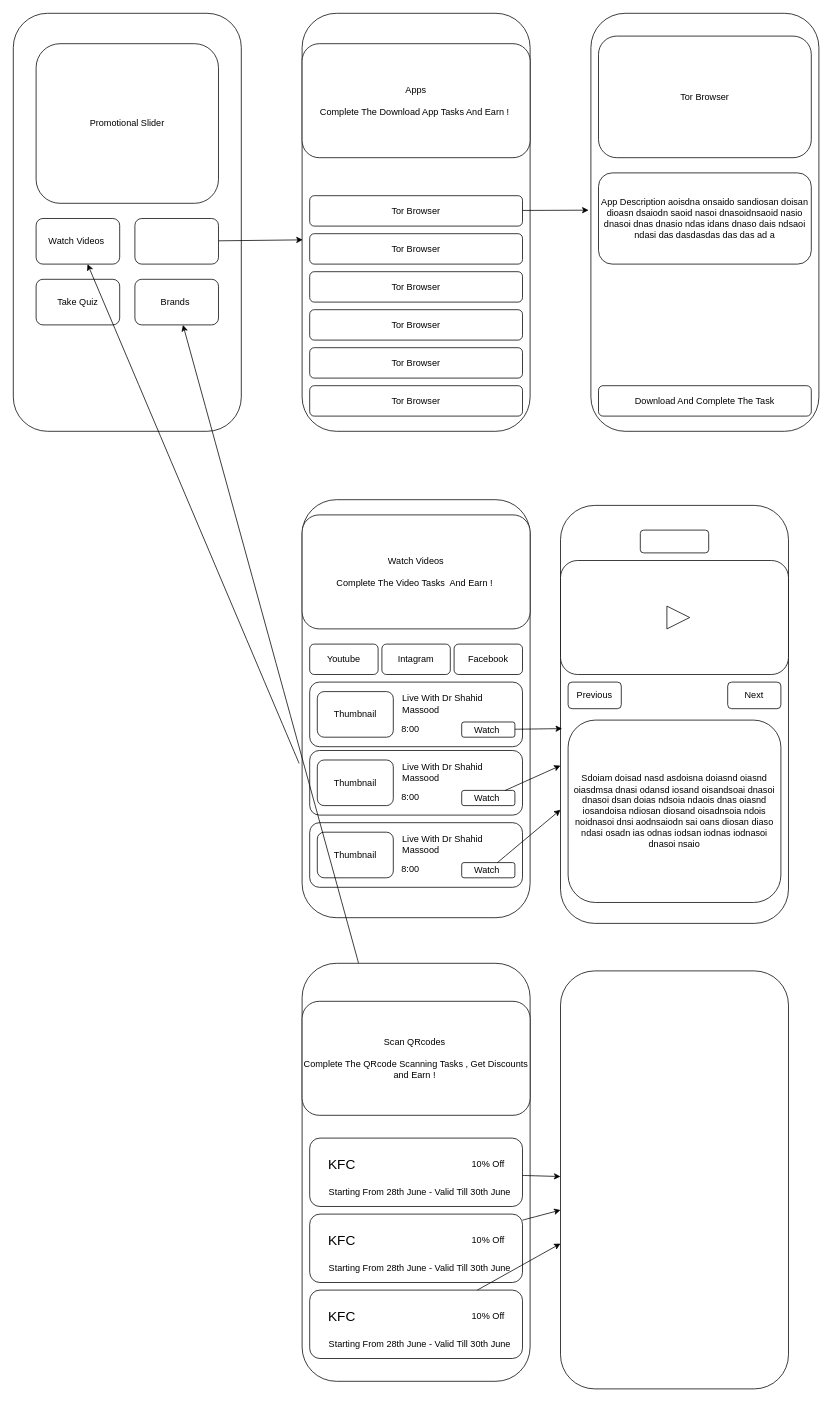
Image size: 832x1402. Some labels were removed from this diagram. Here are the shapes that lost their labels. From the top down, the box of each, then its label:
(134, 218, 218, 264): Download Apps
(640, 529, 709, 553): Reward Amount - 3 PKR
(560, 560, 788, 674): Video
(560, 970, 788, 1389): QR CODE SCANNER
